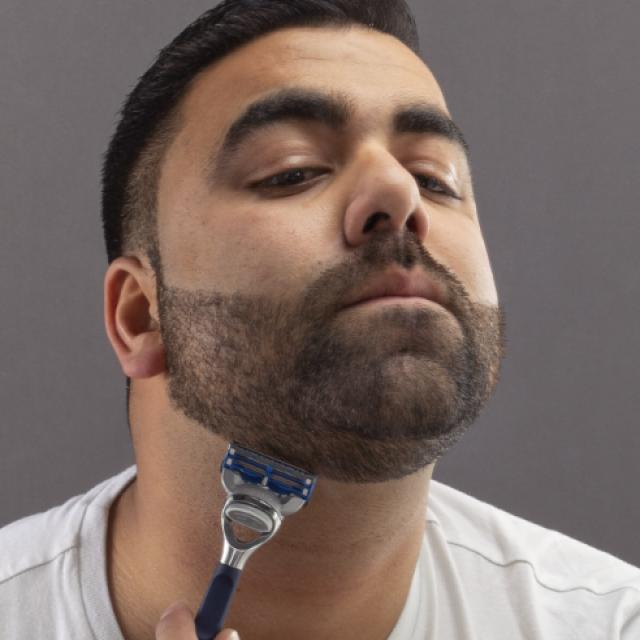beard: (159, 263, 505, 483)
hair: (103, 0, 420, 261)
